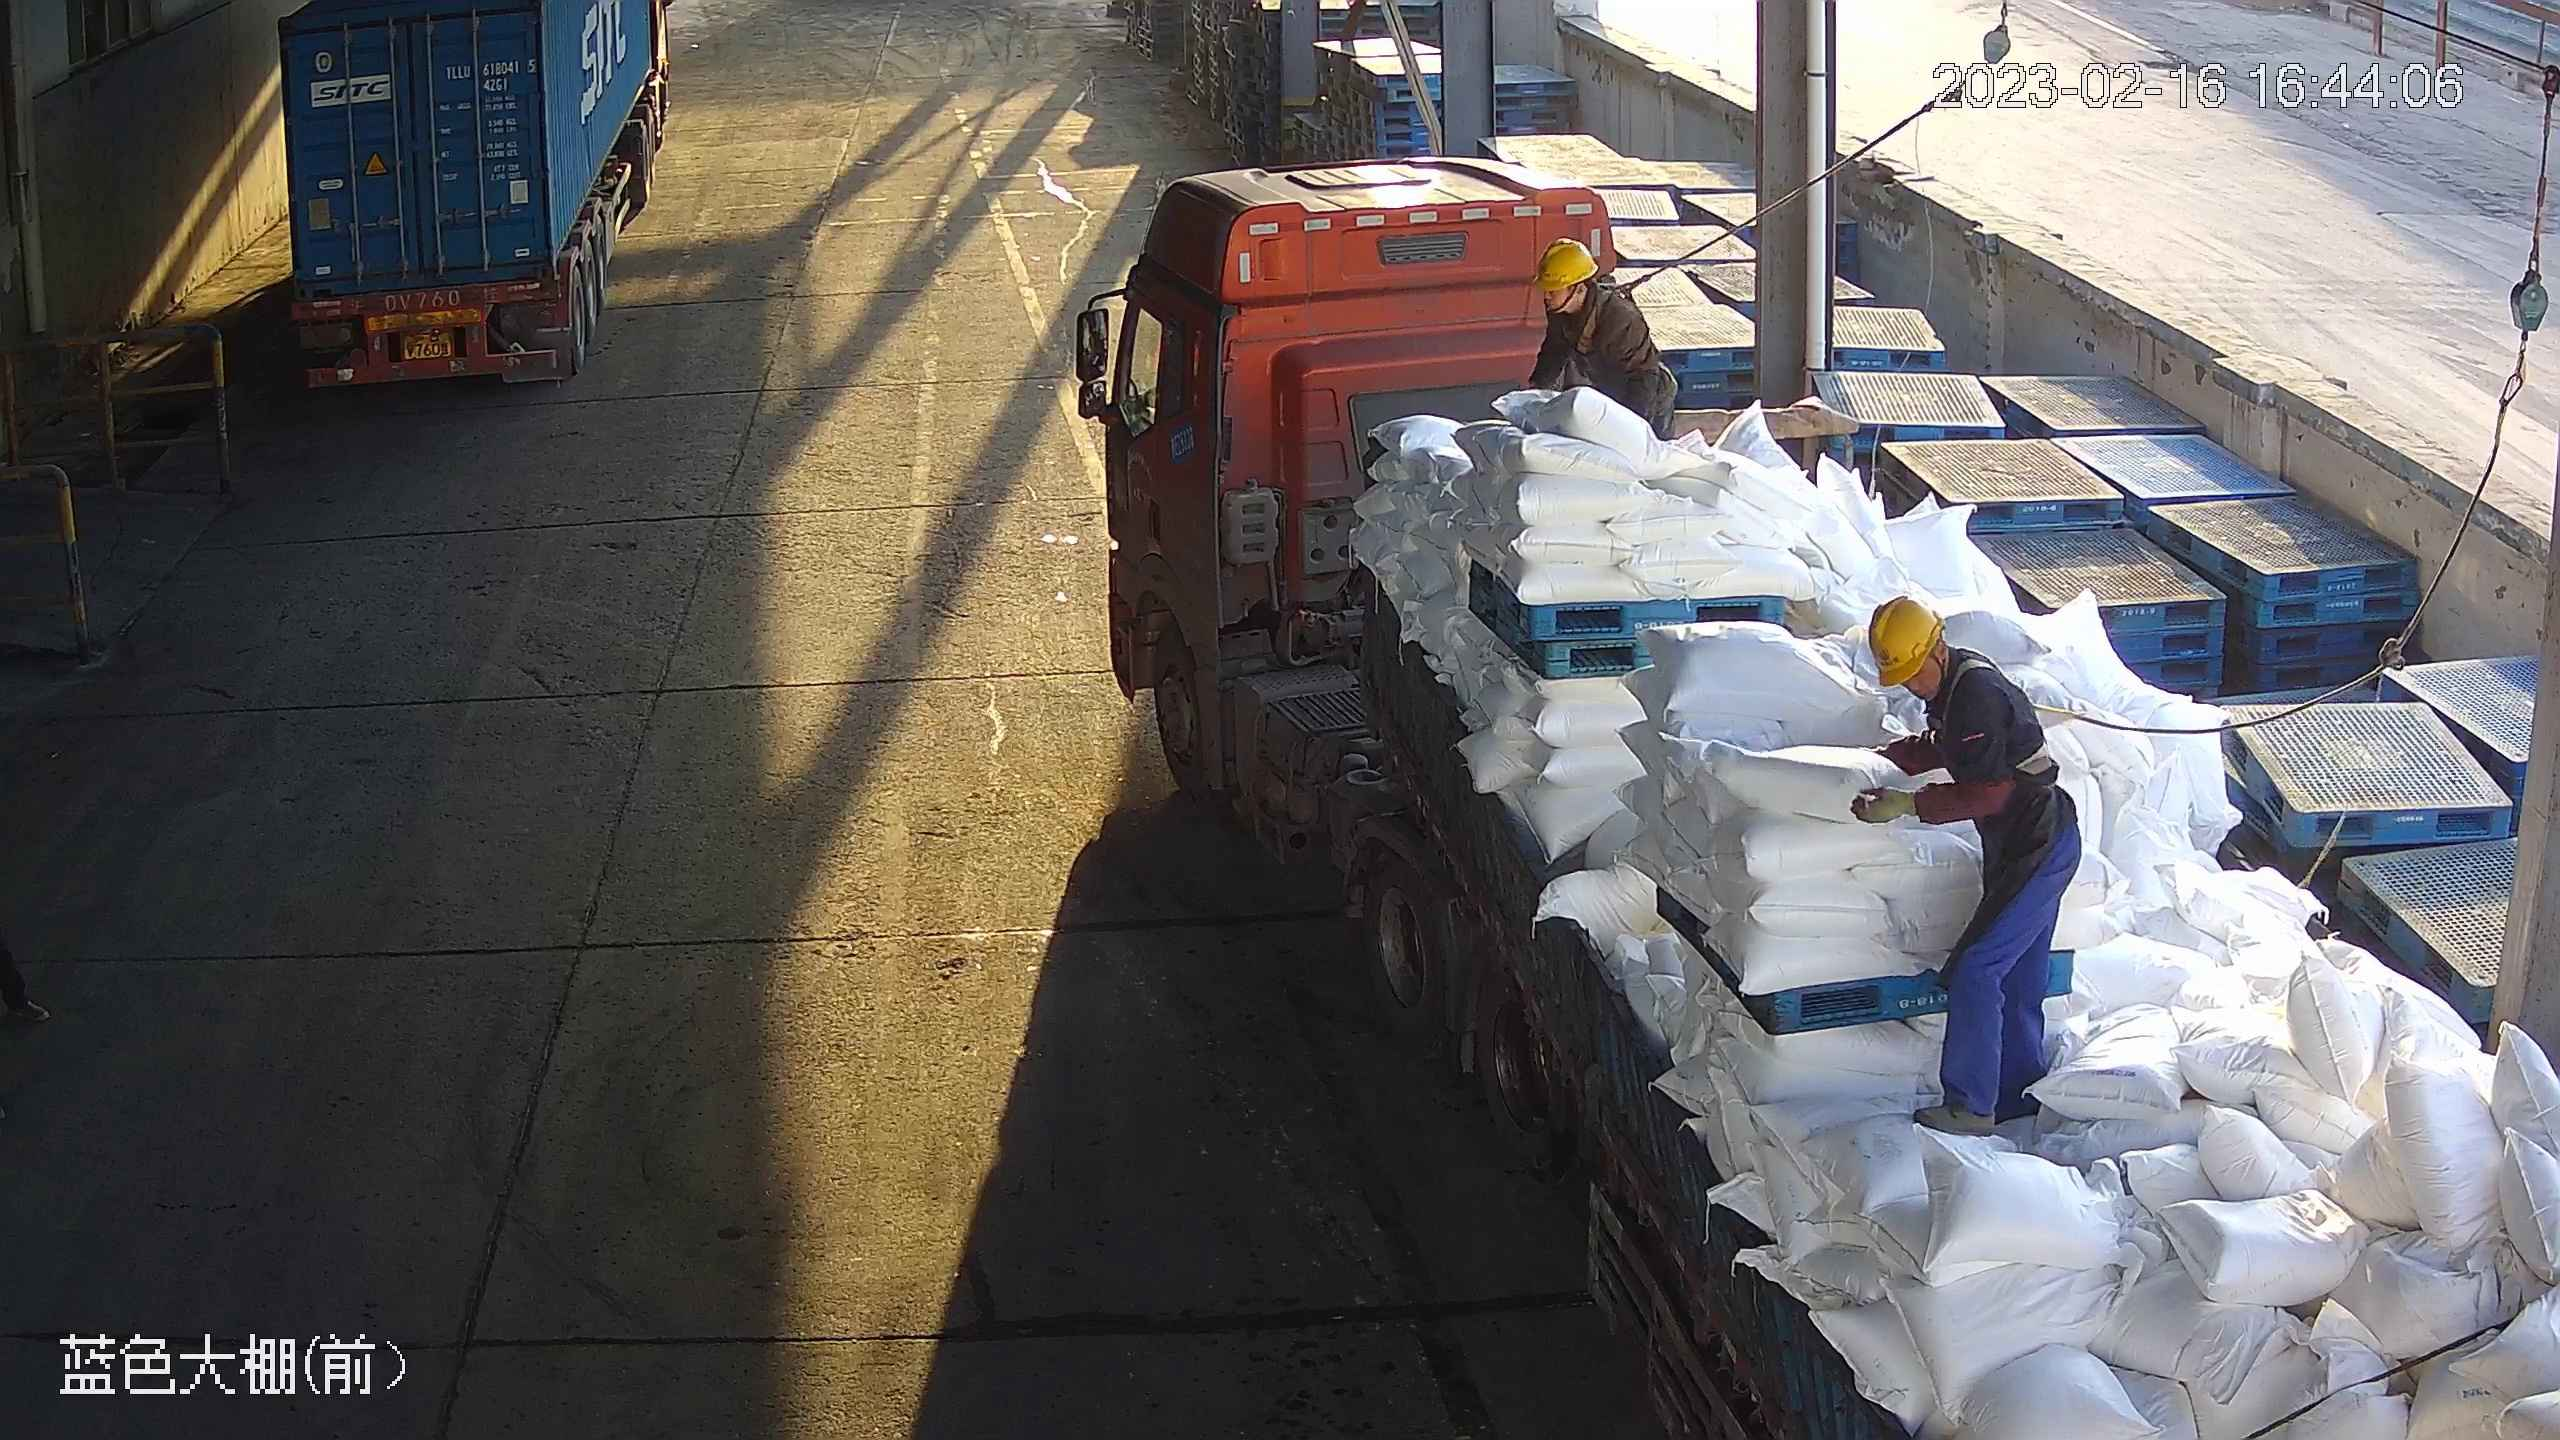belt: (1927, 660, 2005, 729), (1575, 273, 1635, 347)
head: (1862, 584, 2057, 744), (1525, 234, 1644, 349)
helmet: (1857, 588, 1955, 686), (1525, 232, 1601, 305)
people: (1864, 594, 2094, 1147)
truck: (1142, 181, 2560, 1440)
